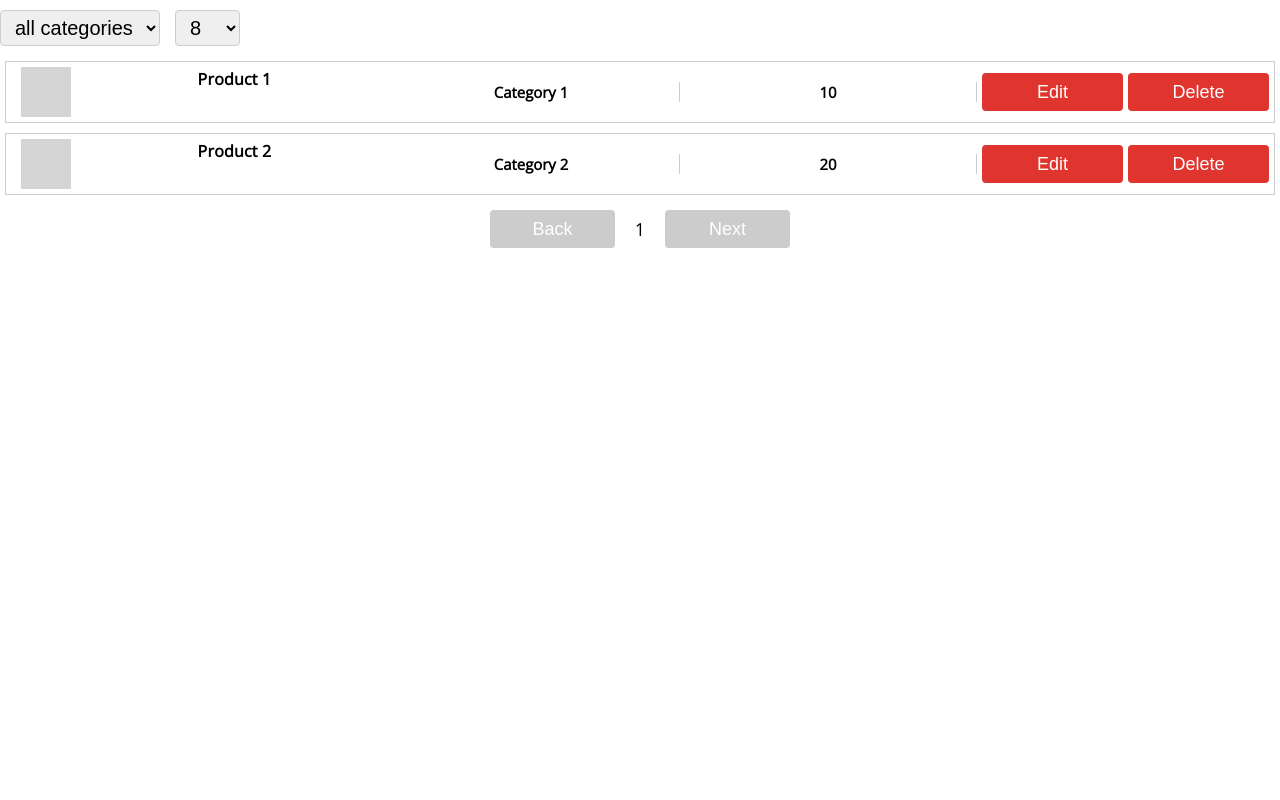
it: ProductsInfo › opens modal on edit button click
This screenshot has width=1280, height=800.
What coordinates should you click on to do the following:
click the button with test id "edit" in the row of "Product 1"
I would click on:
 (1052, 92)
Its box is [982, 73, 1123, 111].
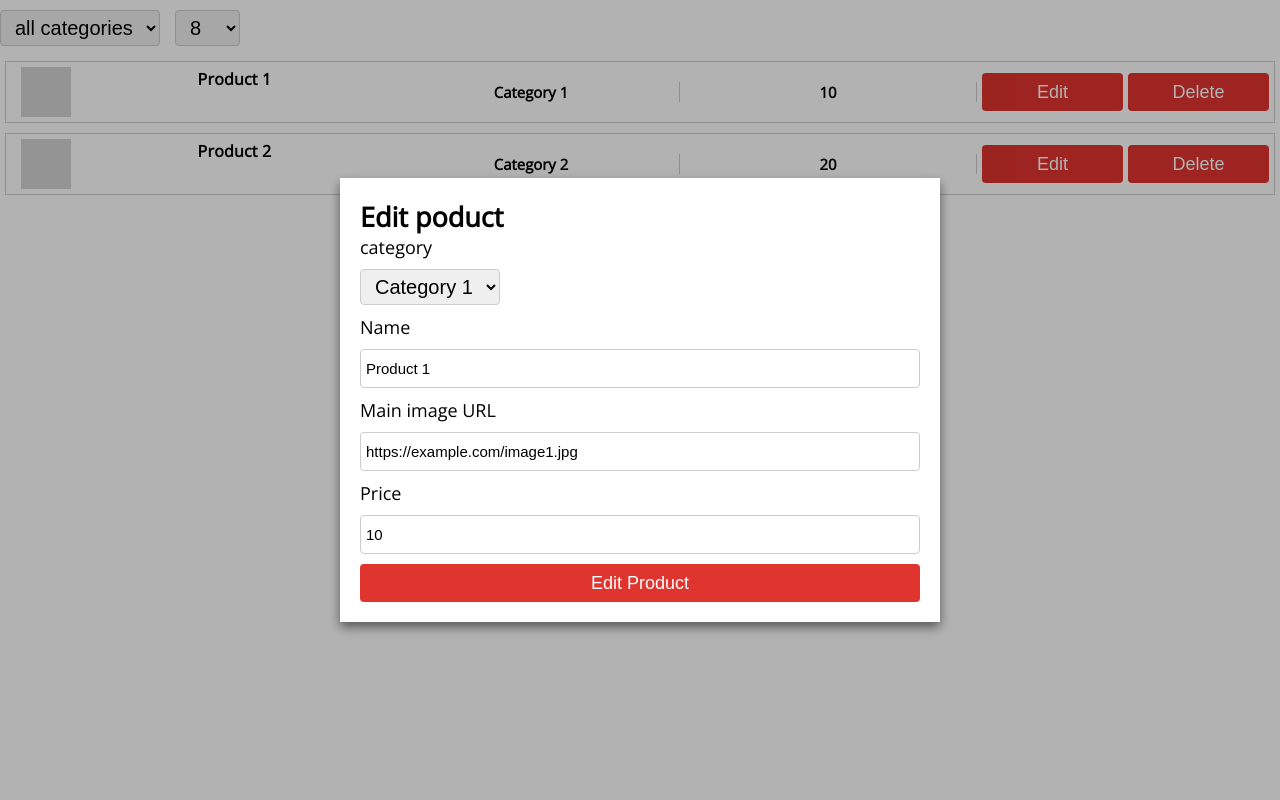
Result: the element with test id "modal" is shown at [340, 178, 940, 622]
